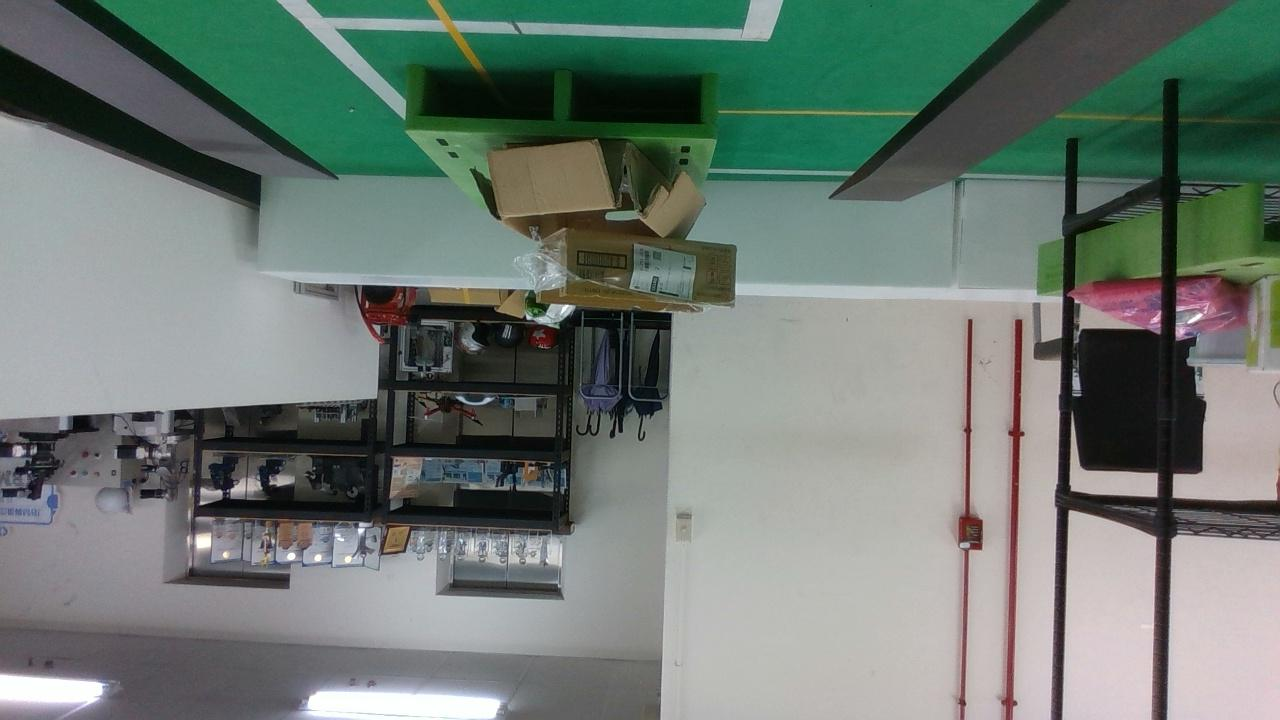Pallet: (400, 60, 725, 138)
